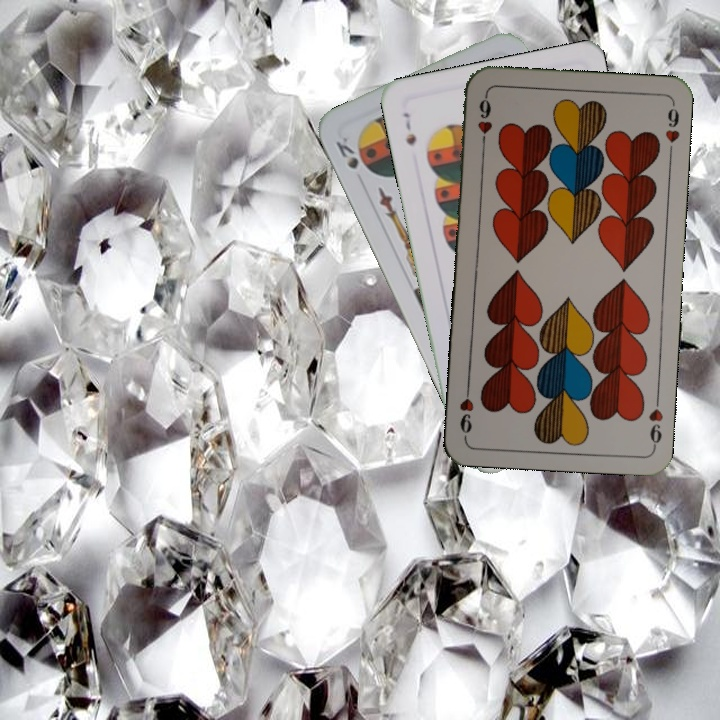H9: (473, 91, 495, 150), (645, 391, 666, 450)
S7: (398, 108, 419, 149)
SK: (331, 132, 361, 172)
